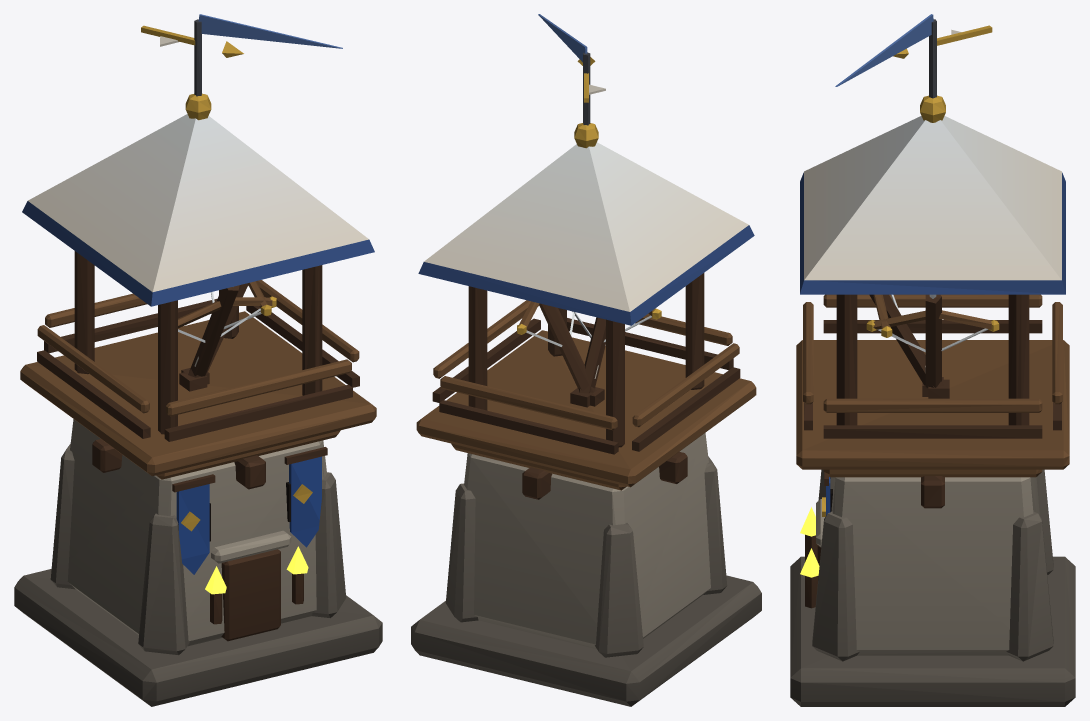
The model's file is skyward_loft.glb.
The picture shows the model from 3 angles, left to right: view 1: azimuth 30°, elevation 25°; view 2: azimuth 150°, elevation 25°; view 3: azimuth 270°, elevation 25°; orthographic projection. The views are drawn at different scales.
Parts seen in each view (by area): view 1: skyward_loft; view 2: skyward_loft; view 3: skyward_loft.
Part boxes in pixels (box(x1,y1,x2,y2)): skyward_loft: box(14, 14, 382, 706); skyward_loft: box(411, 14, 761, 706); skyward_loft: box(790, 14, 1075, 706).
Bounding box in the file's own units: 0.94 × 2.31 × 0.94.
